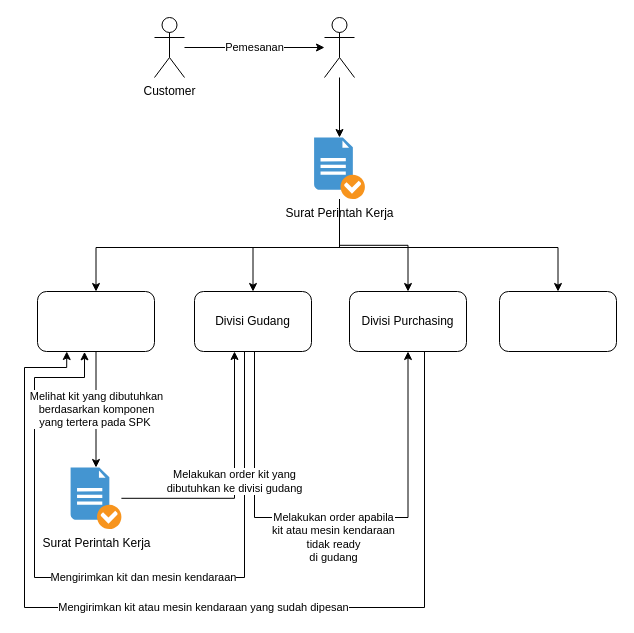
This 634x633 diagram has some shape labels left out. The shapes that lost their labels are listed below. From the top down, each one's box as (x1, y1, x2, y2) in pixels, then its label:
(324, 16, 354, 78): Marketing
(36, 290, 154, 352): Divisi Perakitan
(498, 290, 616, 352): Divisi Keuangan
